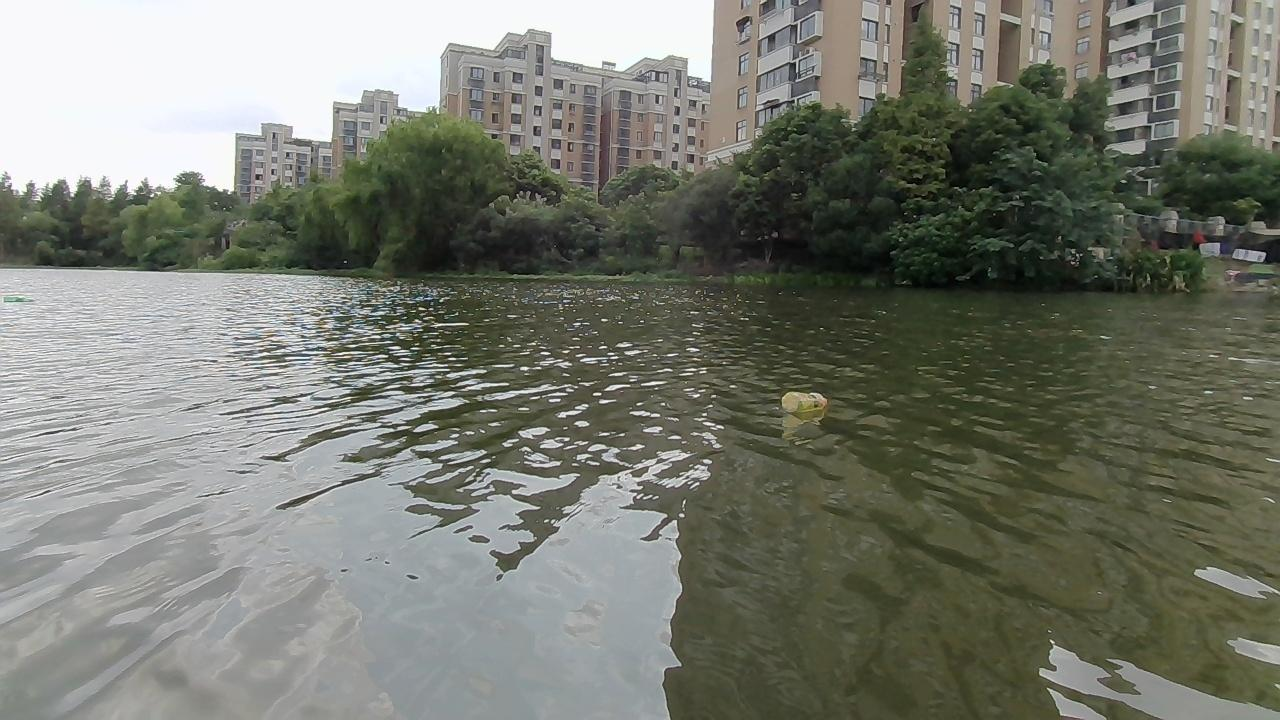bottle: (778, 388, 826, 417), (1, 292, 30, 307)
